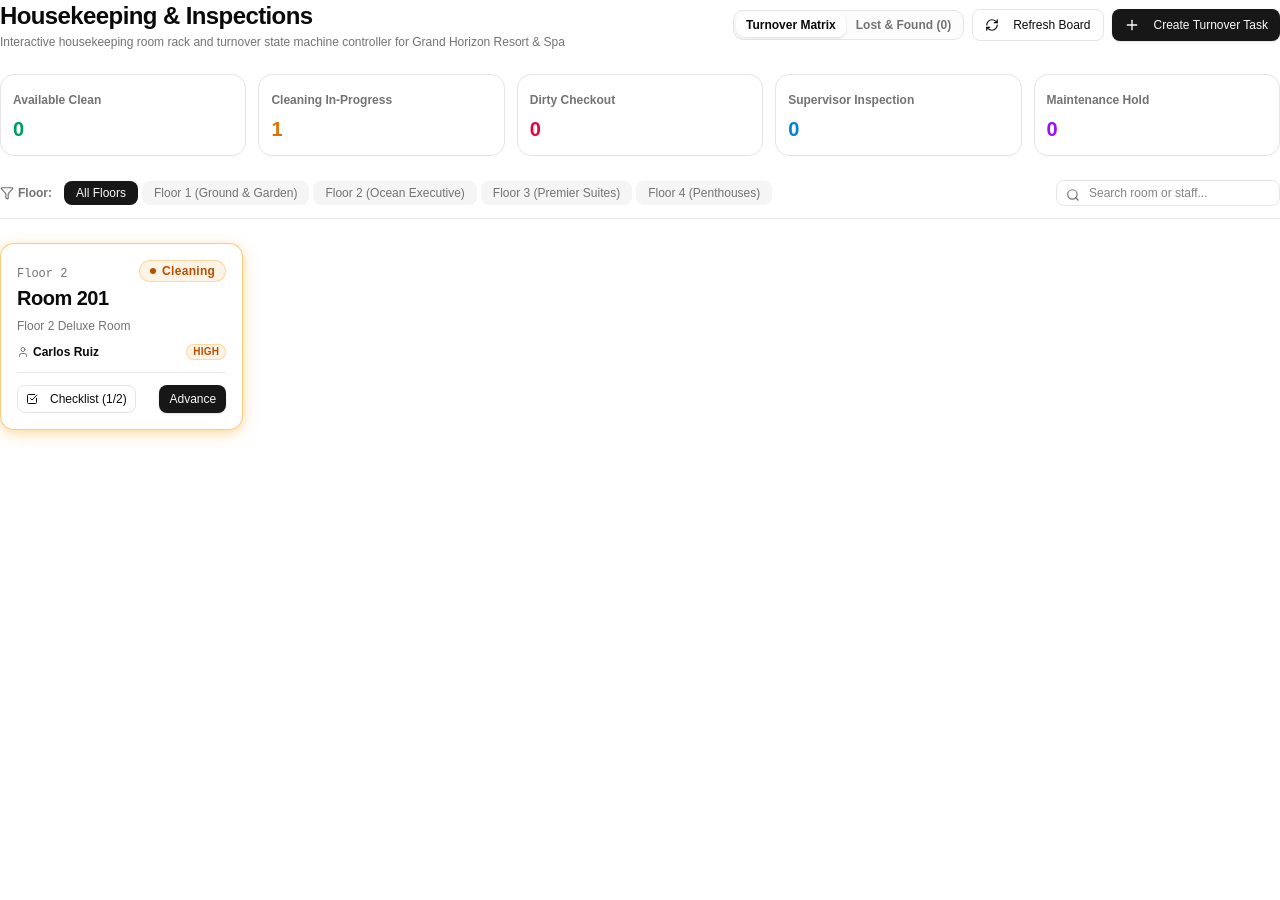
Test case: Housekeeping Hub Resilience & Safety › opens checklist inspection modal safely without crashing
Expected: the heading "Room 201" is shown, x1=17 y1=284 x2=109 y2=312
# Click Checklist button
Click the button "Checklist (1/2)" at (76, 399), box x1=17 y1=385 x2=136 y2=413
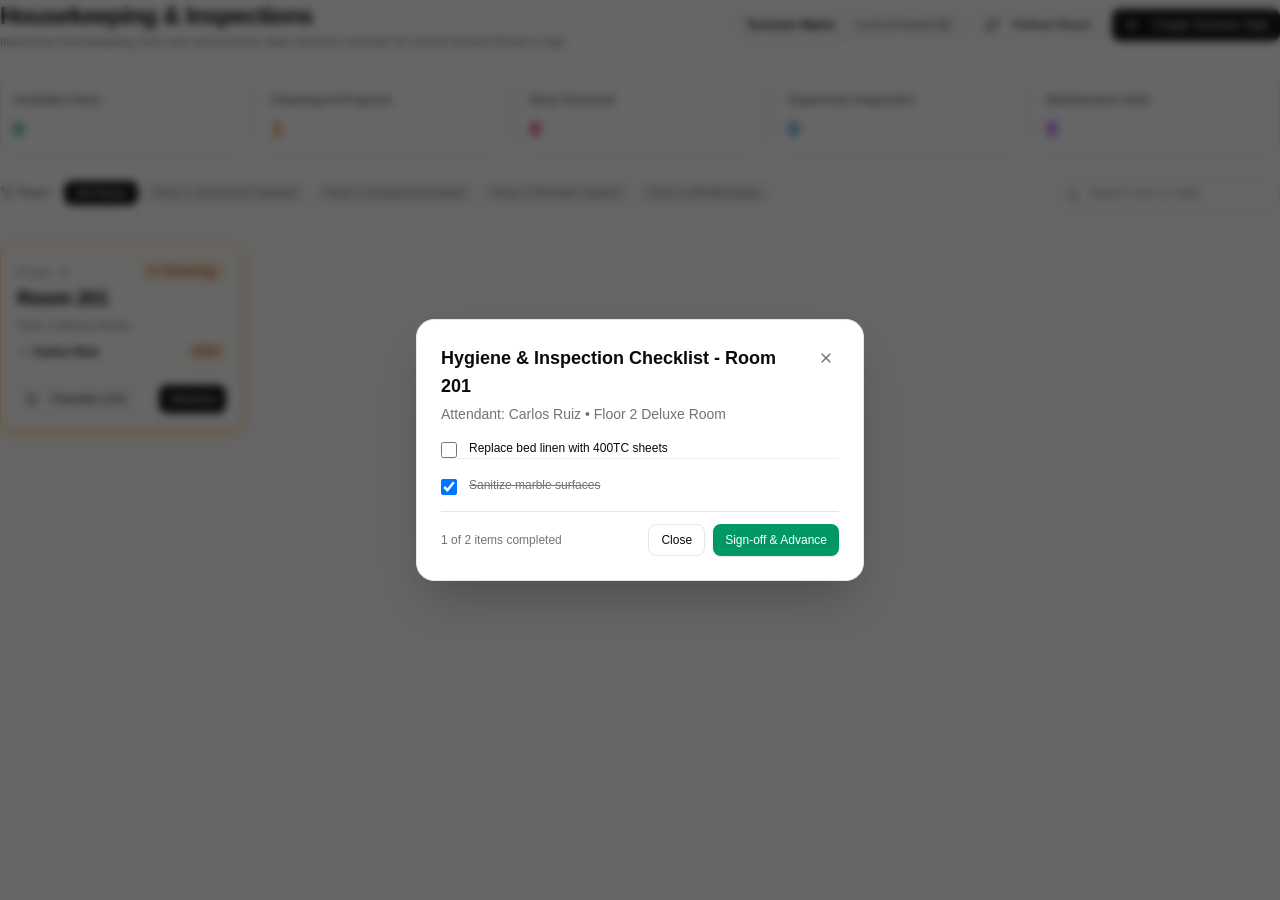
Expected: the heading "Hygiene & Inspection Checklist - Room 201" is shown, x1=441 y1=344 x2=796 y2=400
Expected: the text "Replace bed linen with 400TC sheets" is shown, x1=469 y1=440 x2=668 y2=456
